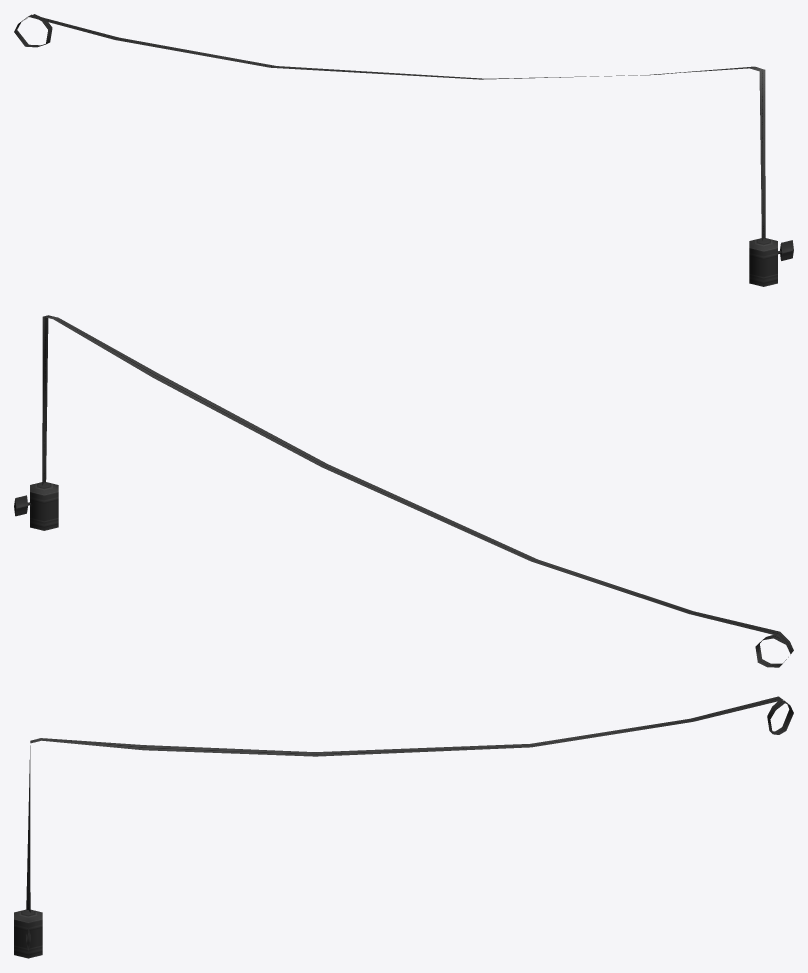
File: jsf_2P_Light_s02_c.fbx
3 views of the same model, one above another, from view 1: azimuth 30°, elevation 25°; view 2: azimuth 210°, elevation 25°; view 3: azimuth 270°, elevation 25° (orthographic).
Visible parts, largest first — view 1: jsf_2P_Light_s02_c; view 2: jsf_2P_Light_s02_c; view 3: jsf_2P_Light_s02_c.
Boxes of the visible parts, <box> form: jsf_2P_Light_s02_c: <box>14,14,793,286</box>; jsf_2P_Light_s02_c: <box>14,315,793,667</box>; jsf_2P_Light_s02_c: <box>14,696,793,958</box>.
Bounding box in the file's own units: 46.08 × 23.05 × 77.69.
